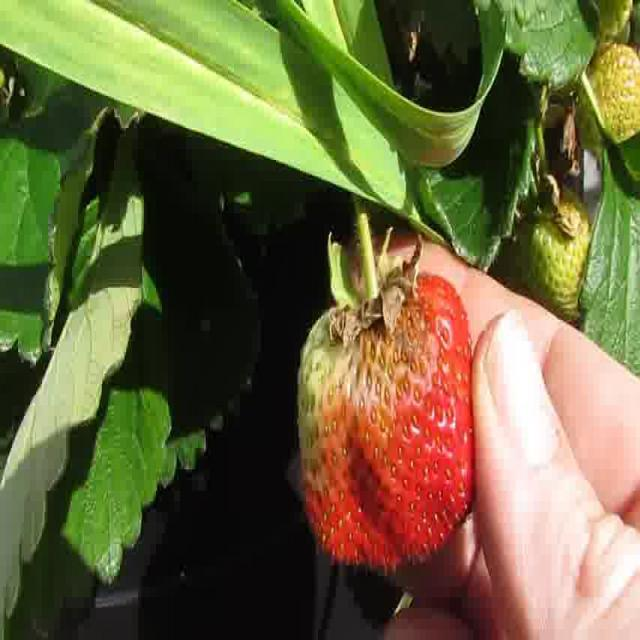Fruta sana: (292, 234, 478, 574), (518, 178, 598, 325), (573, 40, 640, 160), (600, 0, 632, 47)
